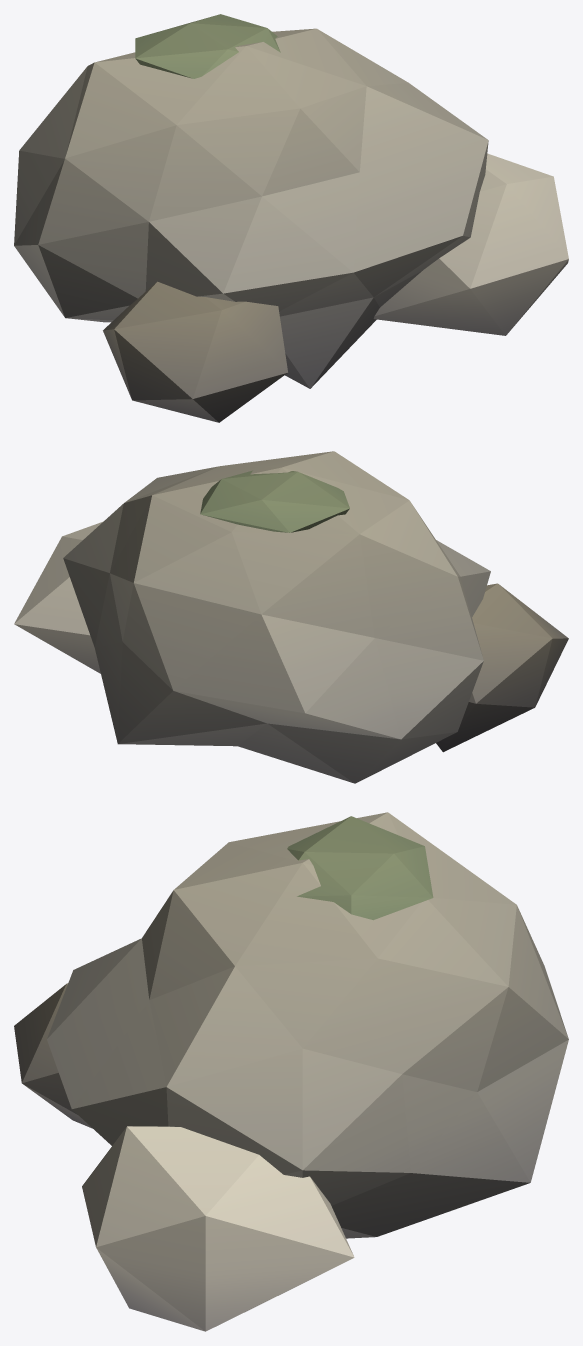
File: item_stone.glb
3 renders of one model, top to bottom at view 1: azimuth 30°, elevation 25°; view 2: azimuth 150°, elevation 25°; view 3: azimuth 270°, elevation 25°, orthographic. The views are drawn at different scales.
Visible parts, largest first — view 1: item_stone; view 2: item_stone; view 3: item_stone.
Boxes of the visible parts, x1,y1,x2,y2 form: item_stone: [14, 14, 568, 422]; item_stone: [14, 451, 568, 783]; item_stone: [14, 812, 568, 1331].
Bounding box in the file's own units: 1.39 × 0.8039 × 1.14.
Materials: 1 (1 with a texture image).
